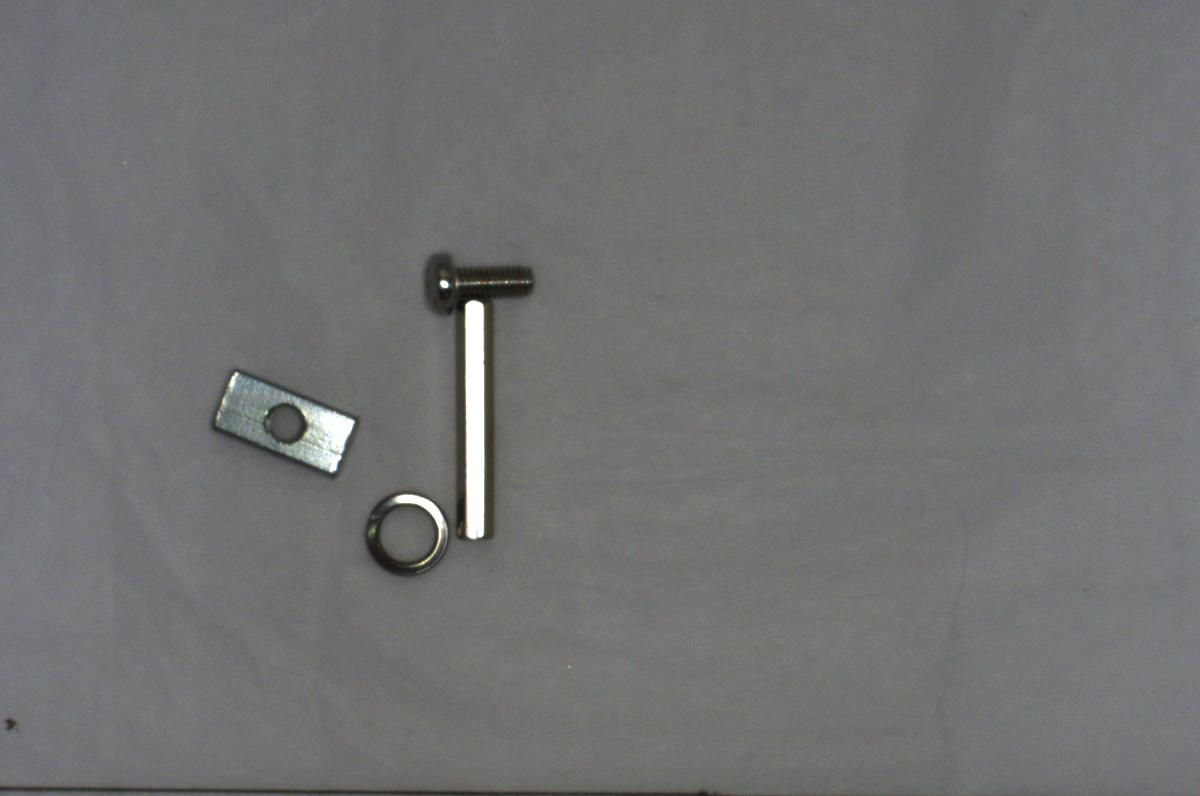Double hexagonal column: (451, 298, 493, 546)
Rectangular nut: (201, 362, 364, 481)
Round head screw: (411, 243, 544, 315)
Spring washer: (362, 488, 455, 573)
